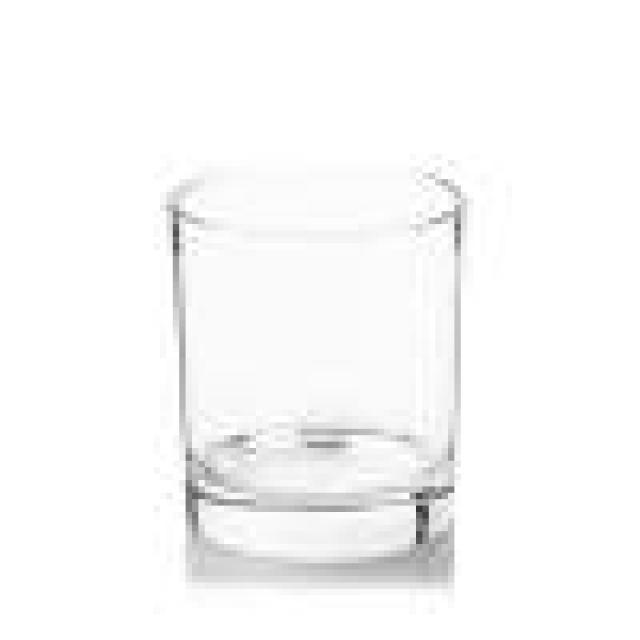Dry: (158, 157, 475, 568)
